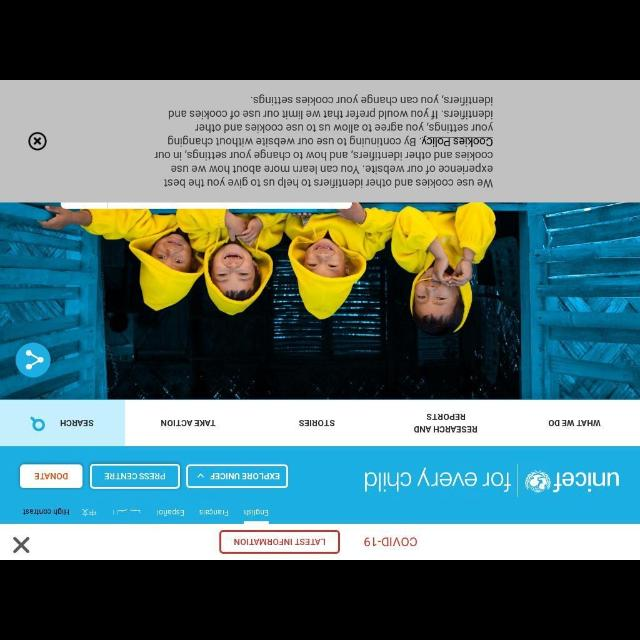button: (18, 342, 50, 376)
icon: (10, 536, 32, 554), (26, 348, 44, 370), (28, 132, 48, 150), (29, 414, 46, 434), (196, 468, 204, 482)
iframe: (1, 84, 637, 202), (1, 526, 636, 556)
image: (1, 201, 639, 397), (523, 464, 625, 500)
link: (421, 134, 493, 146)
spinner: (185, 464, 288, 488)
text: (150, 94, 494, 190), (360, 466, 512, 494), (413, 413, 477, 435), (235, 536, 328, 550), (211, 472, 281, 482), (160, 416, 217, 428), (546, 417, 602, 429), (364, 536, 418, 548), (104, 472, 168, 482), (296, 417, 338, 429), (59, 418, 95, 430), (110, 505, 142, 517), (22, 508, 70, 516), (33, 472, 69, 482), (154, 508, 186, 518), (198, 509, 230, 518), (244, 508, 268, 518), (82, 506, 96, 520)
textbutton: (1, 400, 123, 448), (219, 530, 339, 554), (90, 464, 180, 490), (19, 464, 82, 488)
